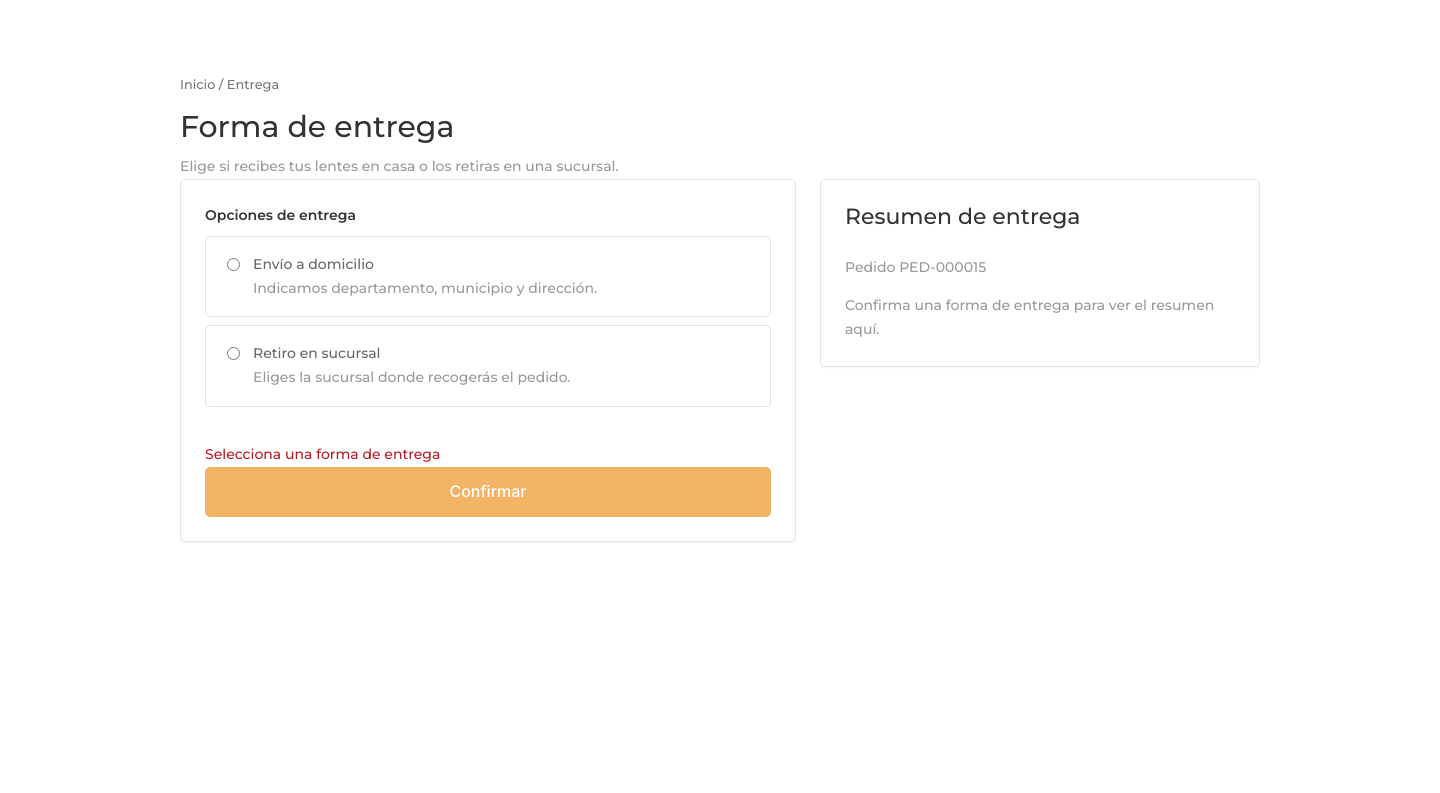
recarga del pedido con entrega › al confirmar guarda la entrega y muestra el resumen del pedido
The image size is (1440, 793).
Step 1. Click the radio button labelled "Envío a domicilio" → (234, 264), box x1=227 y1=258 x2=240 y2=271
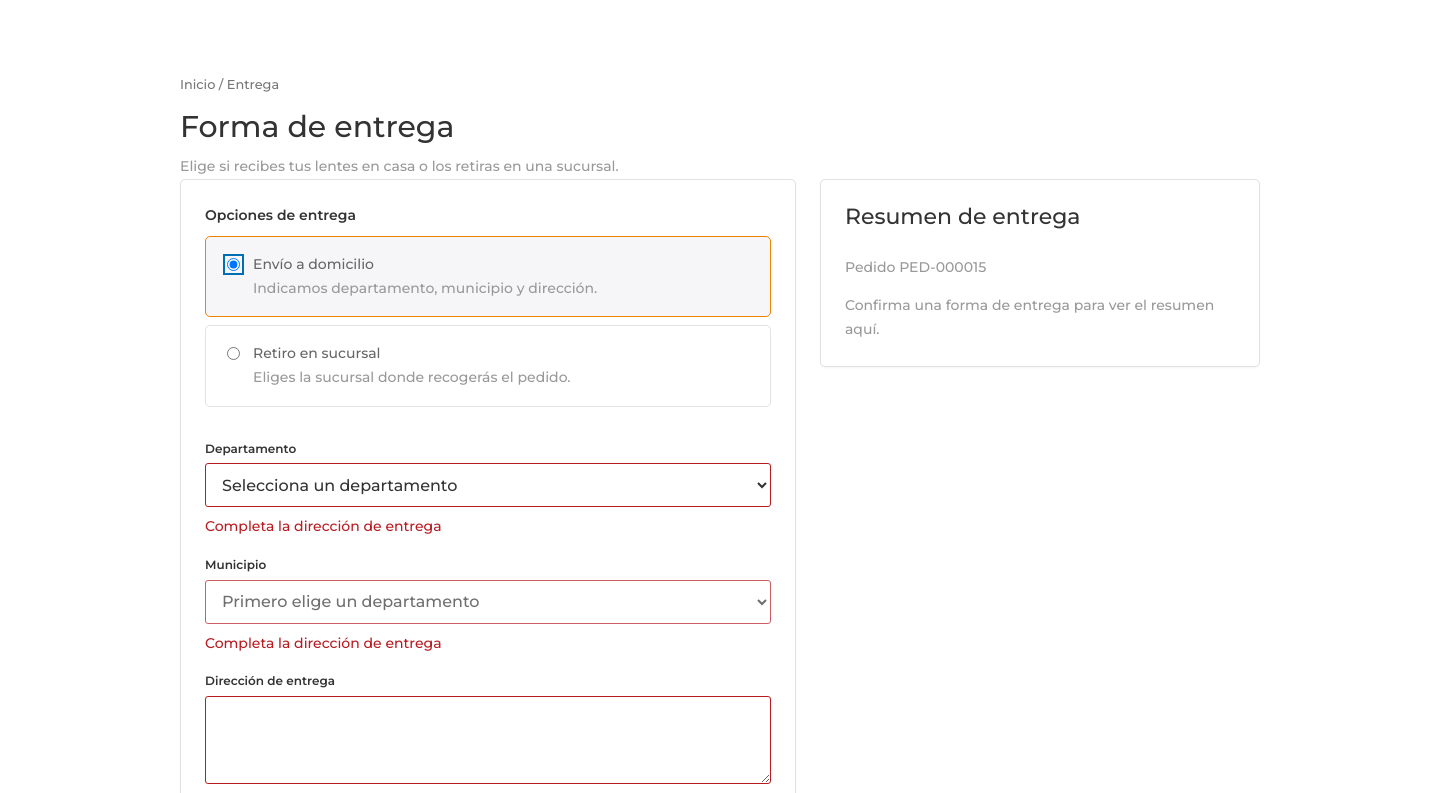
Step 2. Select "San Salvador" in the dropdown labelled "Departamento" → (488, 485), box x1=205 y1=463 x2=771 y2=507
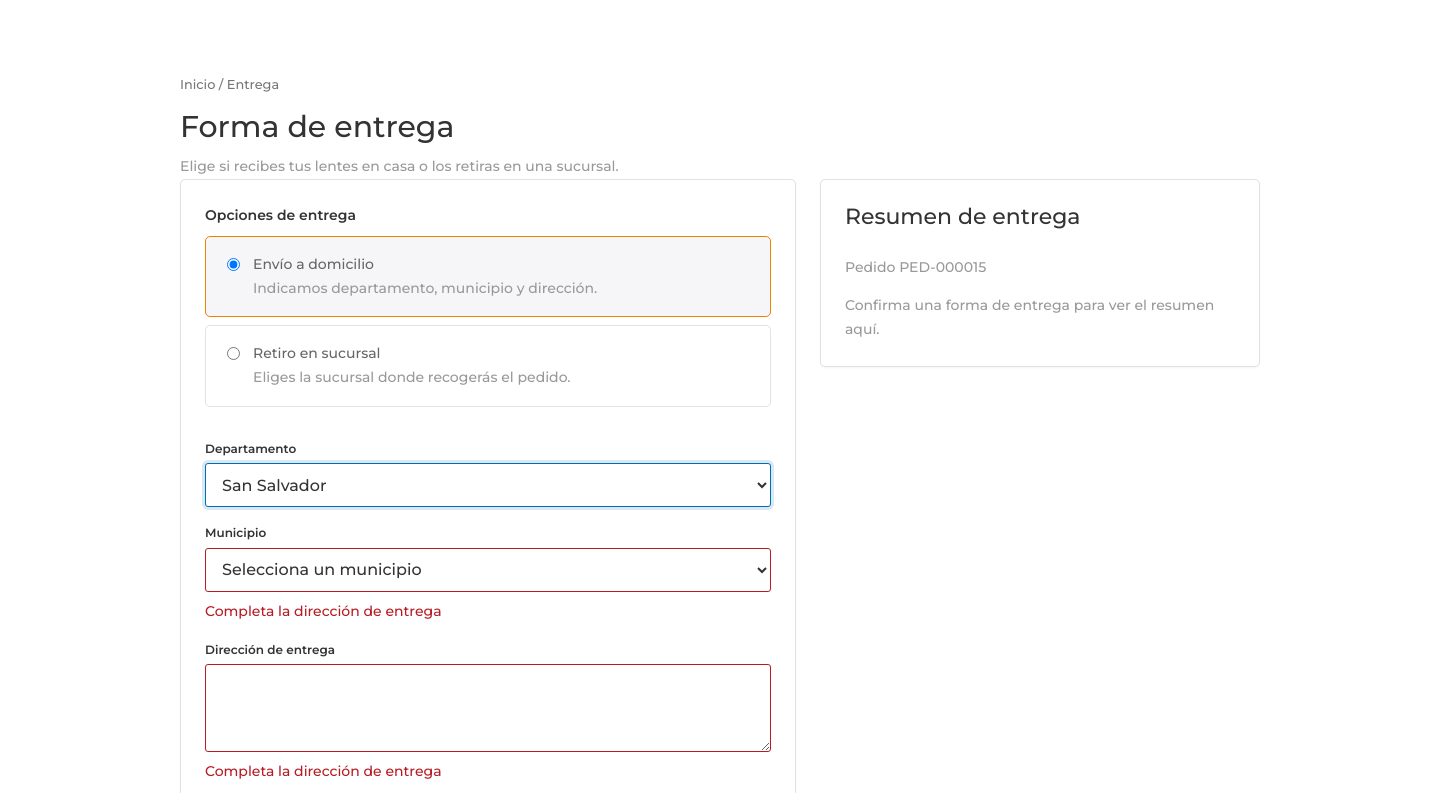
Step 3. Select "San Salvador" in the dropdown labelled "Municipio" → (488, 570), box x1=205 y1=548 x2=771 y2=592
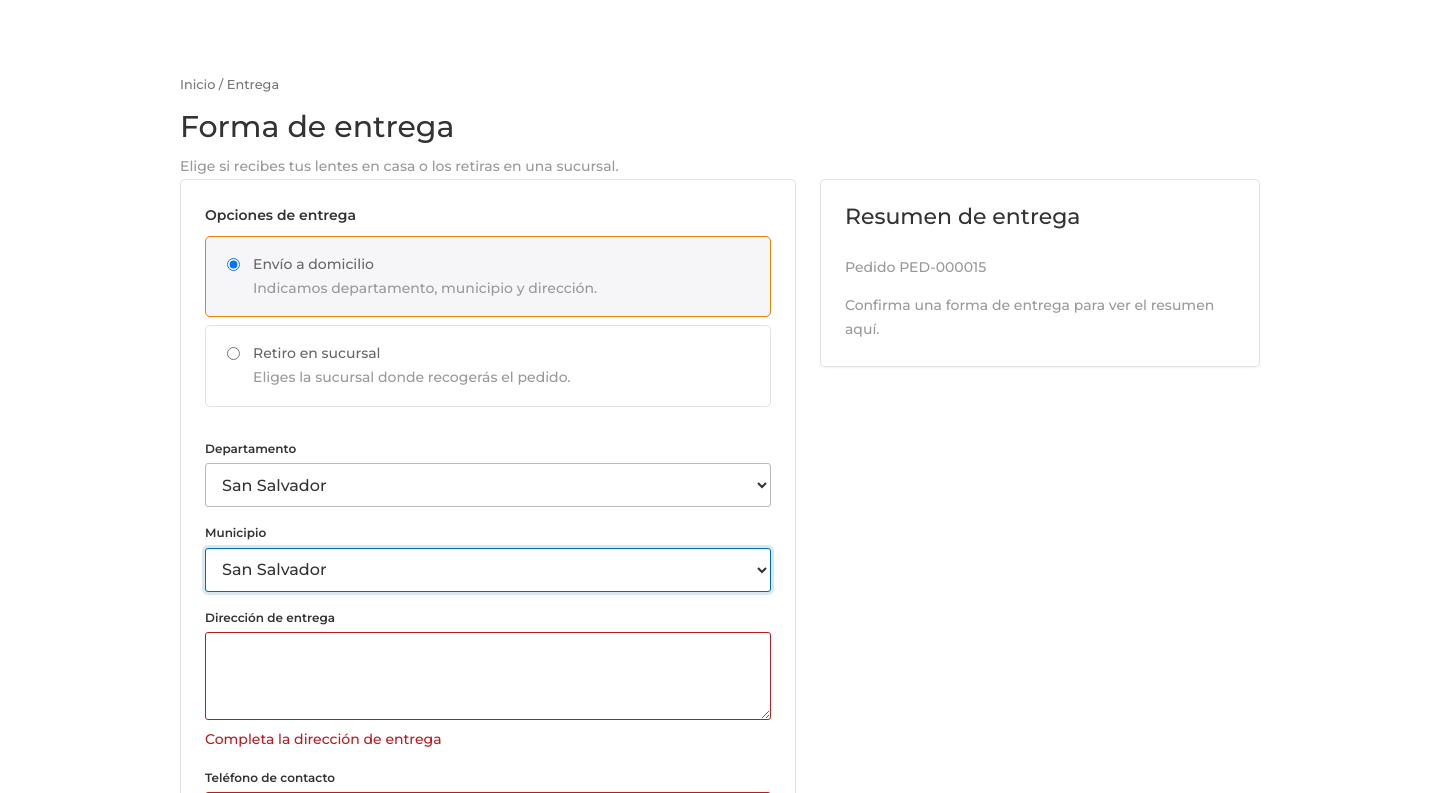
Step 4. Type "Colonia Escalón, casa 123" into the text box labelled "Dirección de entrega" → (488, 676), box x1=205 y1=632 x2=771 y2=720
(page scrolled)
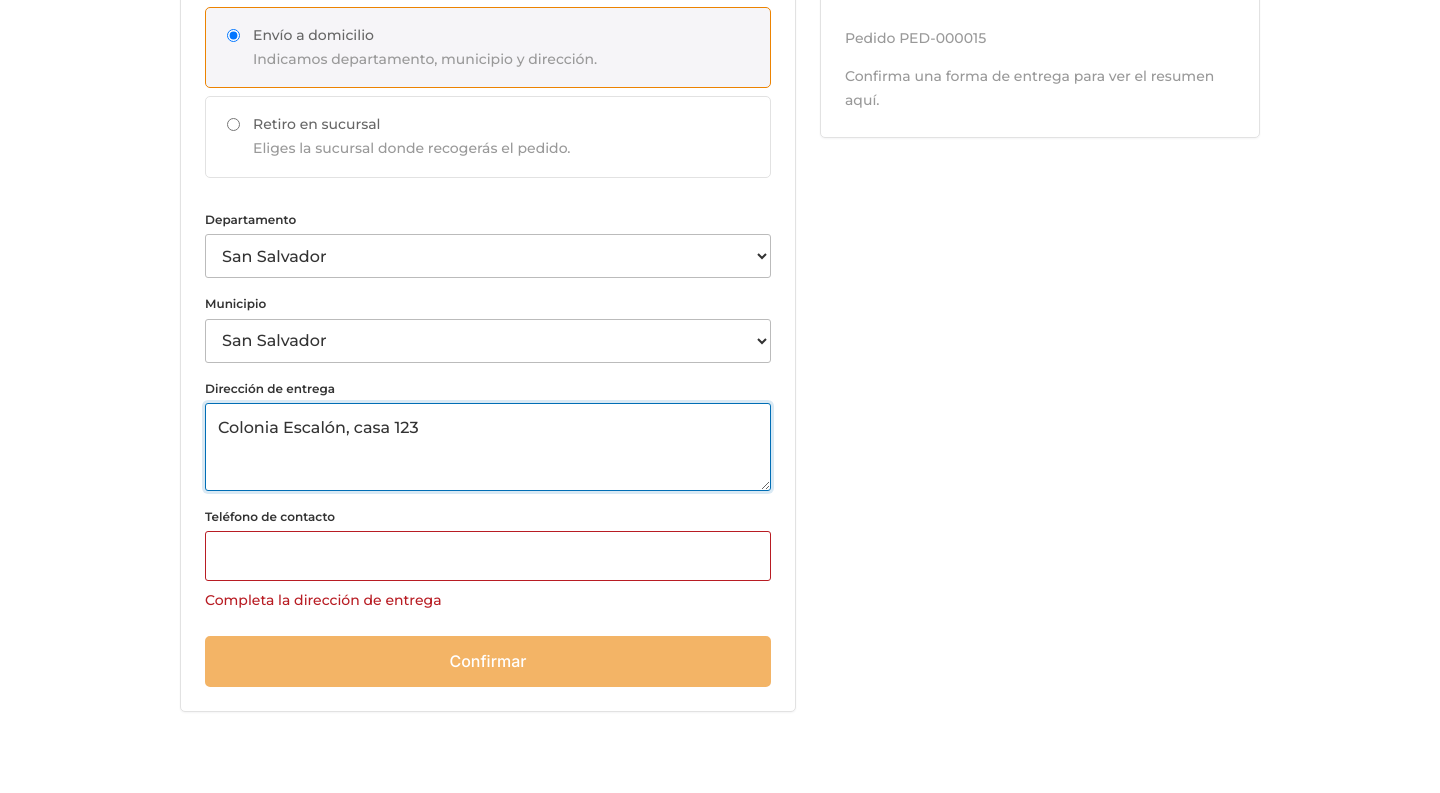
Step 5. Type "70000000" into the field labelled "Teléfono de contacto" → (488, 556), box x1=205 y1=532 x2=771 y2=581
(page scrolled)
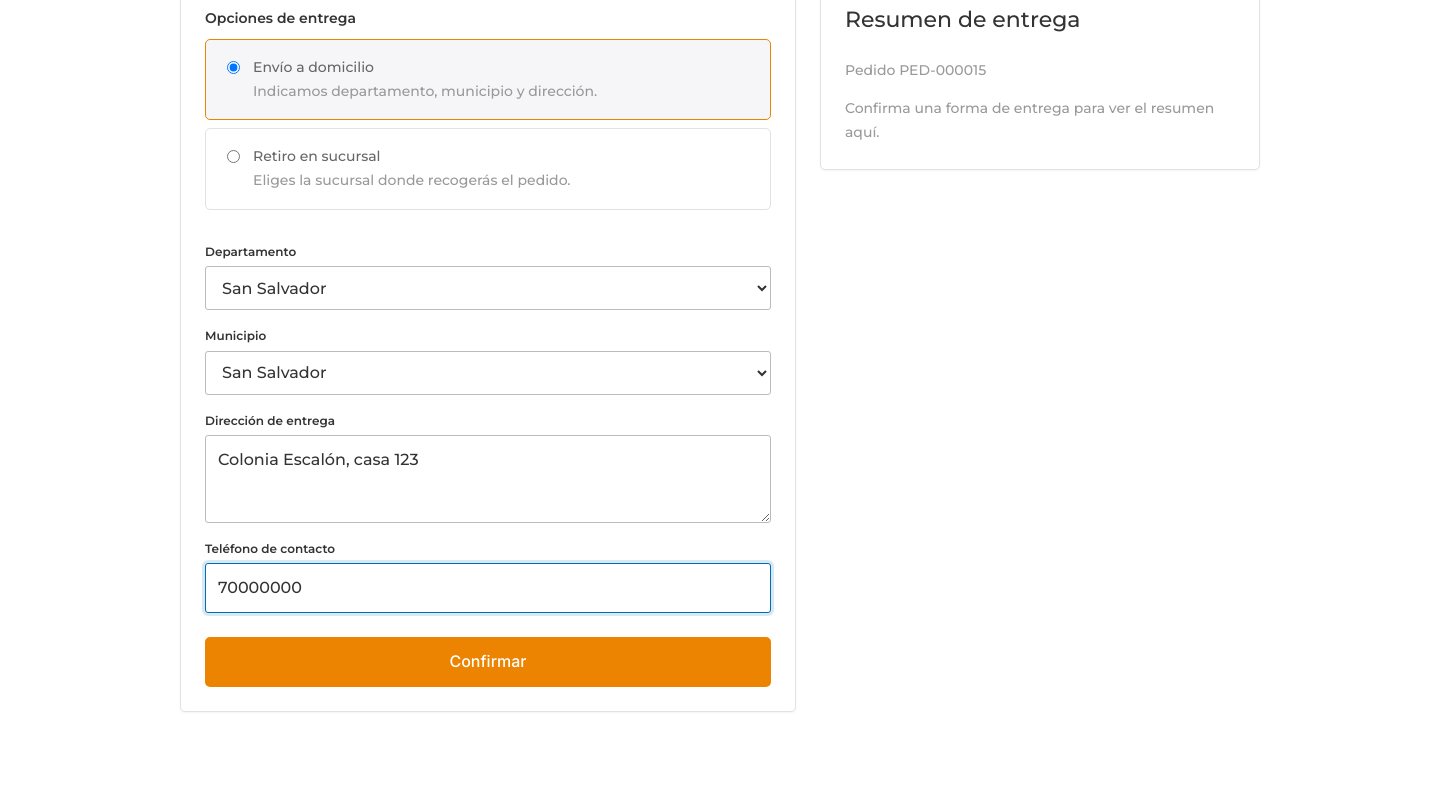
Step 6. Click the button "Confirmar" → (488, 662), box x1=205 y1=637 x2=771 y2=687
(page scrolled)
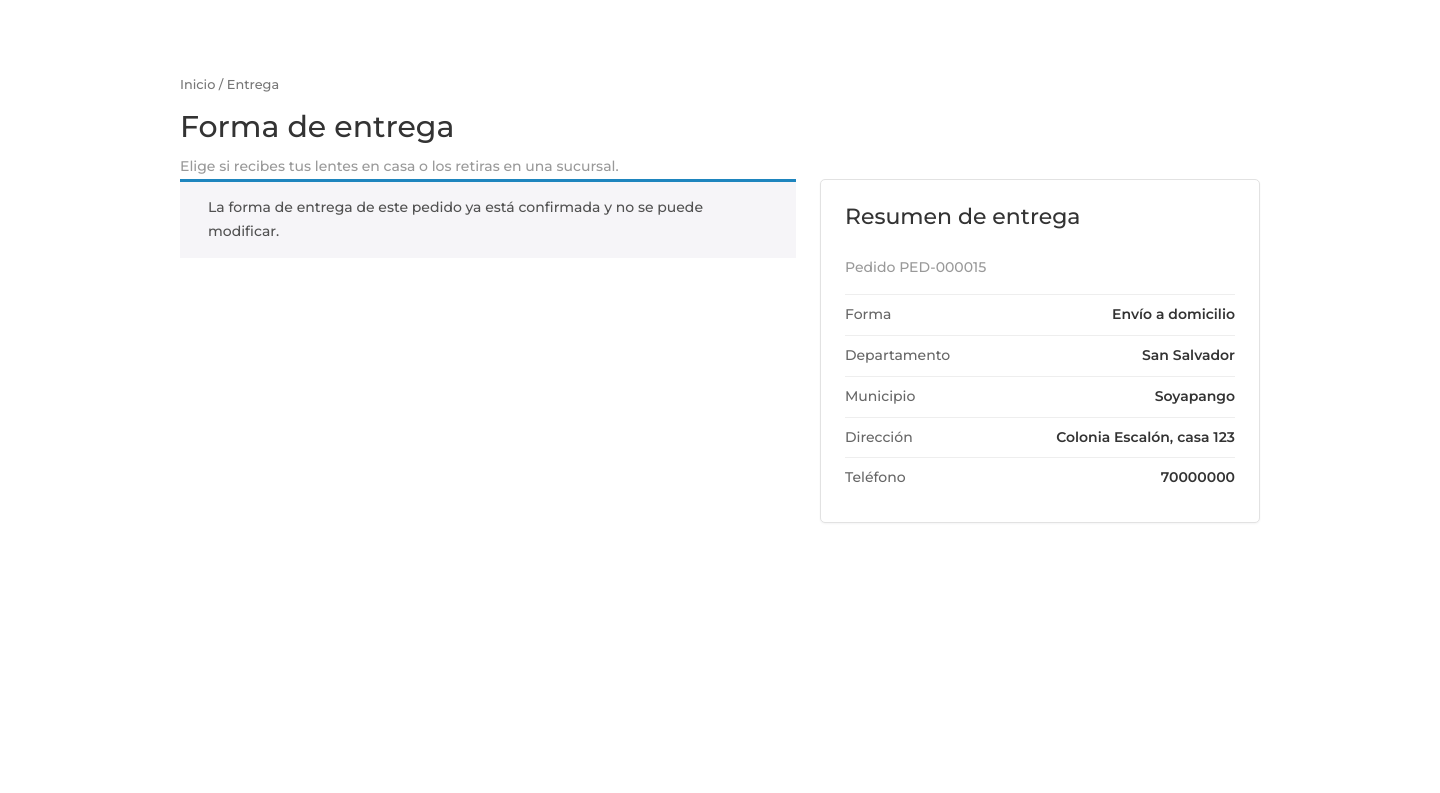
Expected: the text "Colonia Escalón, casa 123" is shown, x1=1056 y1=426 x2=1235 y2=449
Expected: the button "Confirmar" is gone
